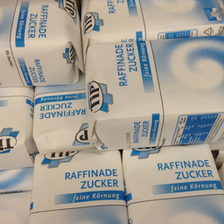tomato_sauce: (86, 37, 224, 149), (119, 143, 224, 223), (27, 147, 128, 224), (1, 1, 82, 84), (81, 1, 224, 48)
